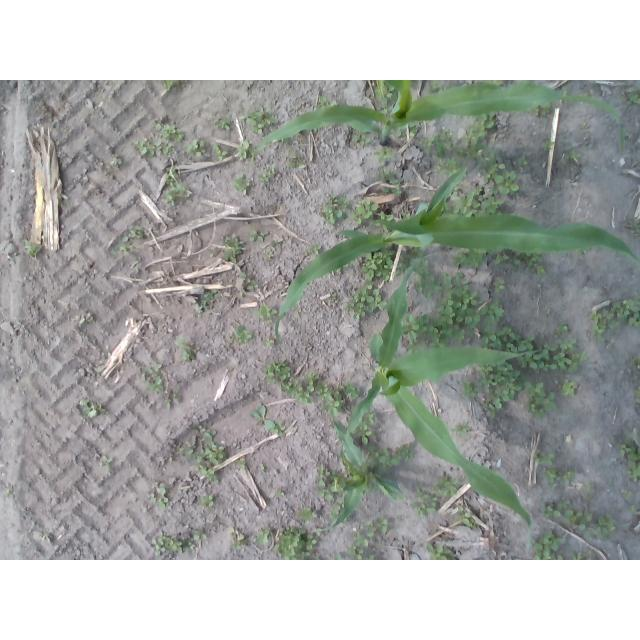Maize: (275, 167, 639, 345), (345, 258, 541, 526), (258, 81, 622, 153), (317, 412, 407, 533)
Weeds: (481, 325, 587, 372), (469, 114, 519, 196), (433, 272, 480, 348), (177, 425, 226, 484), (482, 362, 522, 418), (589, 299, 639, 341), (345, 516, 387, 560), (346, 283, 388, 319), (275, 527, 317, 558), (453, 192, 505, 217), (524, 381, 556, 419), (531, 528, 567, 560), (403, 313, 432, 351), (361, 251, 395, 282), (263, 358, 294, 391), (317, 466, 347, 500), (617, 440, 640, 483), (240, 107, 277, 133), (436, 131, 469, 158), (585, 513, 618, 540), (512, 250, 545, 275), (133, 139, 175, 157), (350, 197, 379, 223), (152, 532, 183, 556), (293, 371, 315, 403), (223, 233, 245, 264), (249, 404, 276, 429), (481, 298, 505, 325), (430, 475, 459, 497), (454, 506, 479, 531), (564, 510, 593, 531), (155, 123, 185, 142), (420, 273, 441, 300), (379, 449, 400, 475), (149, 483, 168, 510), (196, 291, 218, 314), (254, 304, 278, 325), (408, 499, 436, 517), (80, 399, 106, 418), (324, 391, 344, 415), (459, 381, 484, 400), (163, 186, 189, 204), (466, 247, 486, 270), (487, 247, 510, 265), (427, 544, 452, 560), (186, 138, 206, 158), (377, 85, 394, 108), (437, 158, 460, 175), (379, 167, 398, 186), (322, 207, 343, 224), (121, 226, 143, 242), (356, 424, 373, 444), (234, 174, 251, 194), (343, 382, 362, 399), (376, 211, 393, 230), (411, 257, 430, 273), (535, 450, 554, 466), (233, 530, 248, 550), (175, 339, 196, 353), (161, 80, 183, 93), (237, 325, 252, 344), (296, 506, 313, 522), (146, 376, 163, 392), (374, 148, 390, 165), (581, 483, 596, 501), (544, 469, 558, 488), (238, 140, 251, 160), (254, 528, 270, 544), (562, 380, 578, 396), (367, 446, 379, 466), (514, 155, 529, 171), (545, 503, 560, 518), (269, 421, 285, 435), (399, 442, 413, 458), (289, 156, 306, 169), (627, 87, 640, 104), (328, 504, 339, 524), (24, 240, 39, 254), (251, 230, 270, 241), (214, 119, 230, 132), (201, 492, 215, 506), (415, 487, 430, 500), (422, 138, 434, 154), (316, 382, 329, 396), (215, 146, 228, 160), (453, 423, 471, 433), (411, 280, 422, 296), (192, 529, 206, 541), (452, 254, 466, 266), (338, 196, 351, 208), (408, 122, 421, 134), (147, 363, 162, 373), (310, 243, 322, 255), (80, 314, 93, 325), (494, 279, 505, 292), (564, 471, 577, 482), (246, 279, 258, 290), (544, 141, 556, 152), (622, 491, 634, 502), (111, 155, 122, 166), (102, 457, 114, 467), (326, 193, 338, 203), (261, 338, 275, 346), (487, 80, 504, 86), (236, 457, 246, 467), (173, 393, 183, 403), (559, 501, 570, 510), (543, 102, 551, 114), (430, 81, 443, 88), (267, 162, 275, 173), (360, 135, 368, 146), (392, 188, 401, 197), (260, 174, 269, 183), (318, 95, 326, 105), (117, 246, 127, 254), (571, 149, 579, 159), (629, 357, 639, 365), (6, 490, 14, 499), (367, 413, 374, 423), (431, 497, 438, 507), (634, 387, 640, 398), (277, 489, 285, 497), (182, 354, 190, 362), (532, 108, 540, 116), (166, 179, 175, 186), (561, 88, 568, 97), (630, 506, 637, 515), (335, 552, 342, 561), (165, 400, 171, 409), (260, 461, 265, 471), (169, 171, 177, 177), (238, 273, 246, 279), (573, 554, 581, 560), (188, 542, 195, 548), (381, 187, 388, 193), (330, 102, 338, 107), (128, 246, 136, 251), (453, 187, 458, 195), (352, 135, 357, 142), (269, 251, 274, 257)
